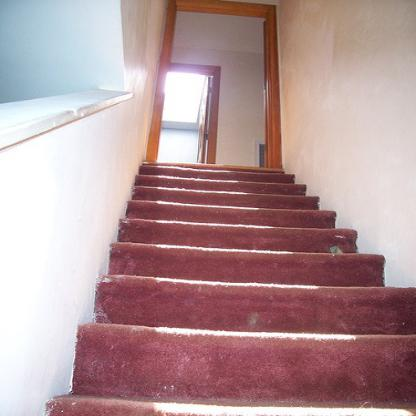stairs: (130, 237, 353, 416)
